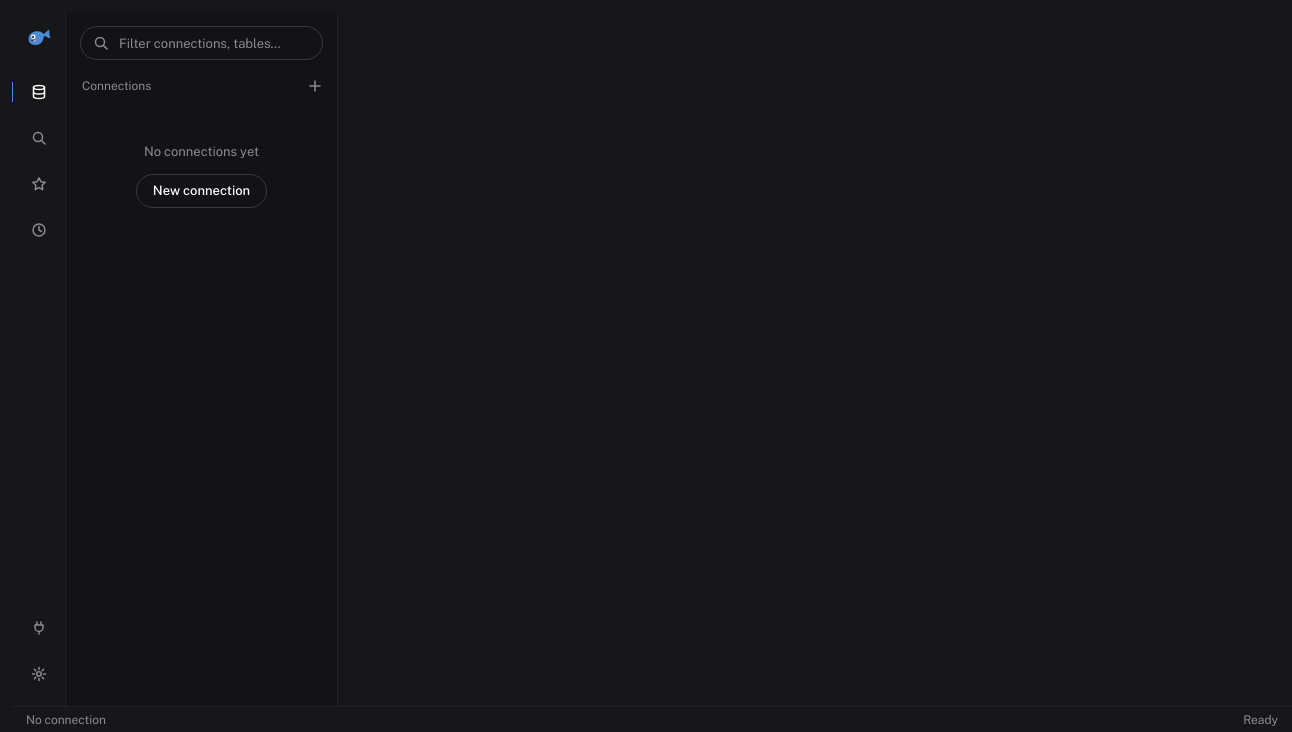
a failed tab connect is shown in the workspace while the explorer is hidden
Click the button named "Explorer" at point(38, 92), box x1=12 y1=72 x2=66 y2=112
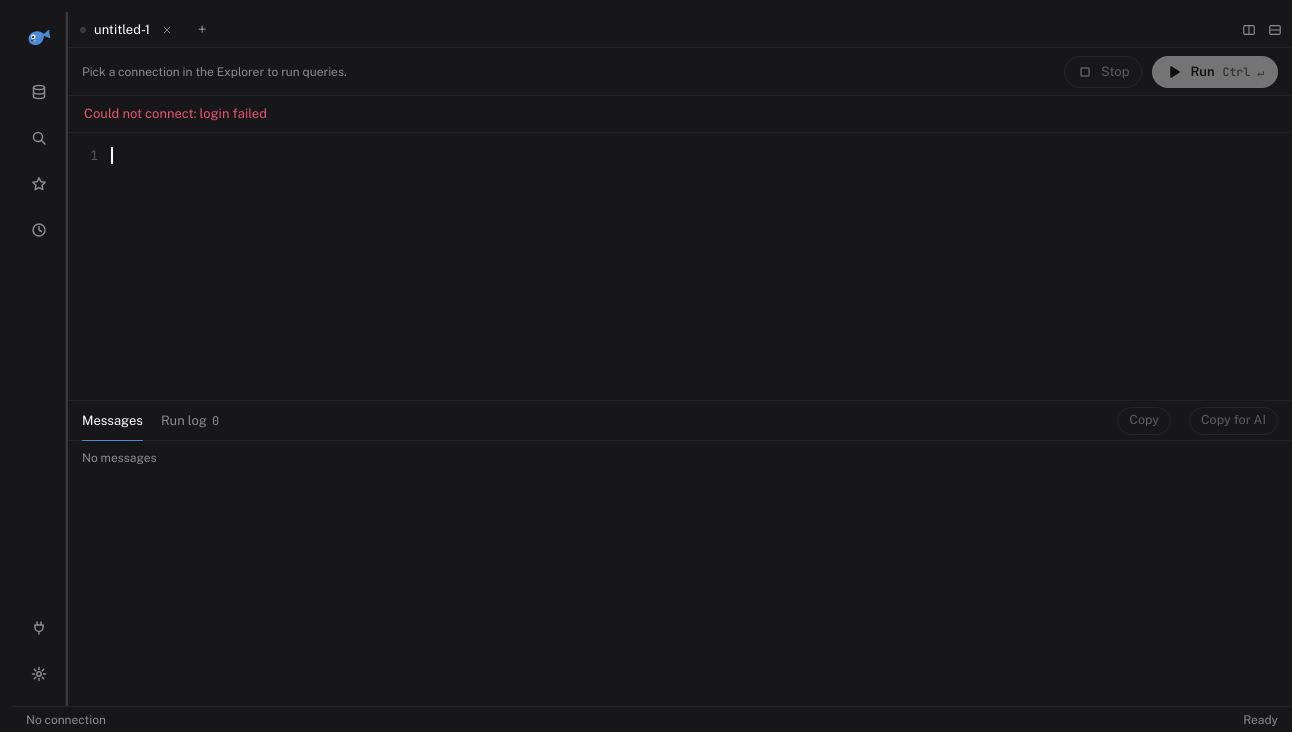
Expected: the text "Connections No connections yet New connection" is gone
Expected: the message "Could not connect: login failed" is shown, x1=68 y1=96 x2=1291 y2=132
